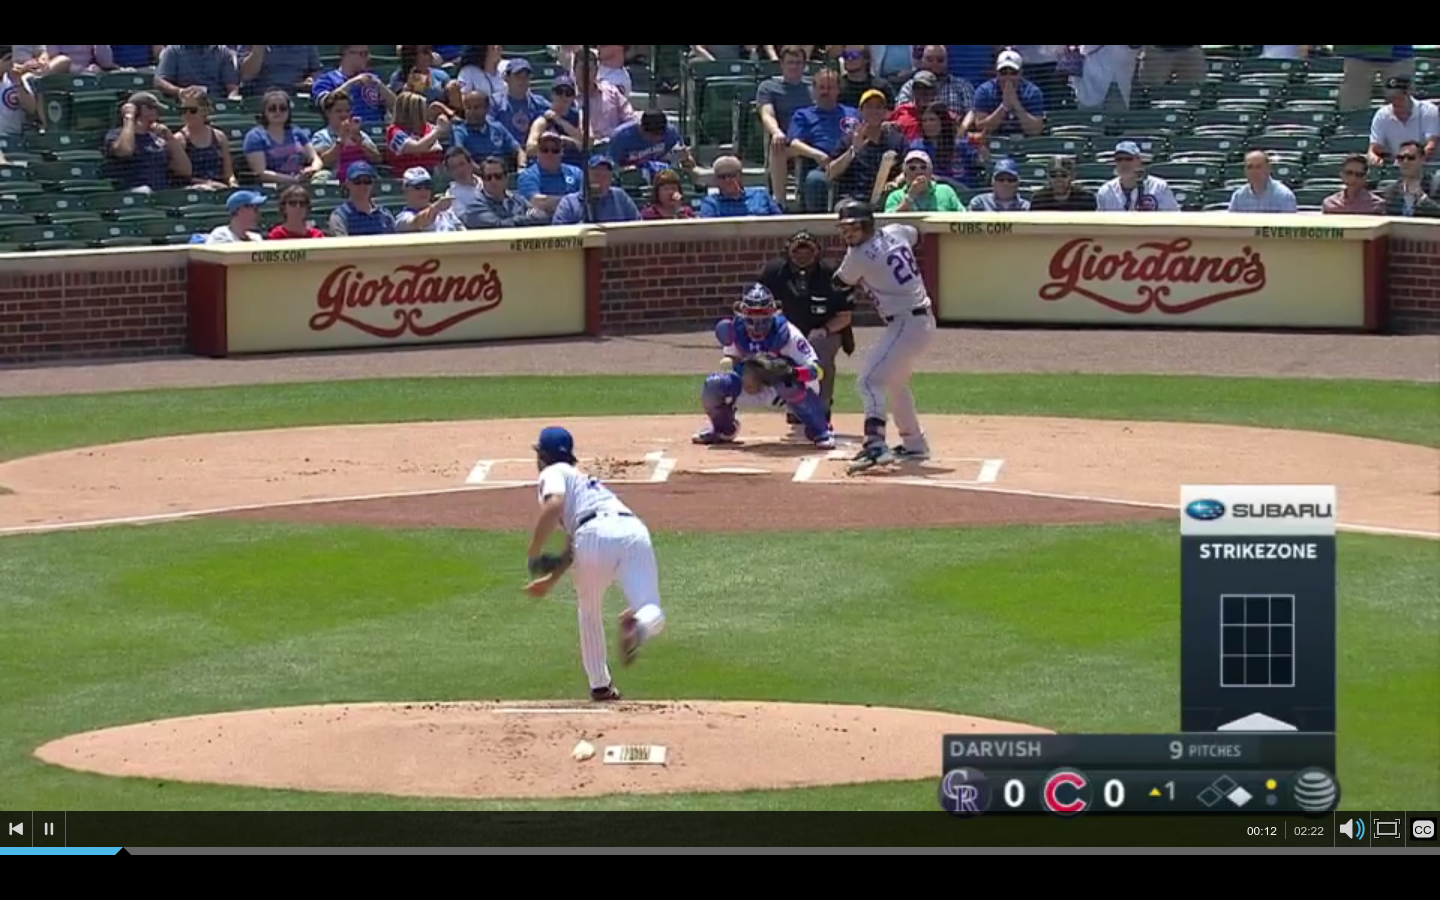baseball: (716, 349, 738, 371)
baseball bat: (865, 142, 896, 209)
baseball player: (516, 422, 665, 703), (830, 206, 938, 482), (688, 288, 836, 446)
referee: (756, 234, 856, 452)
